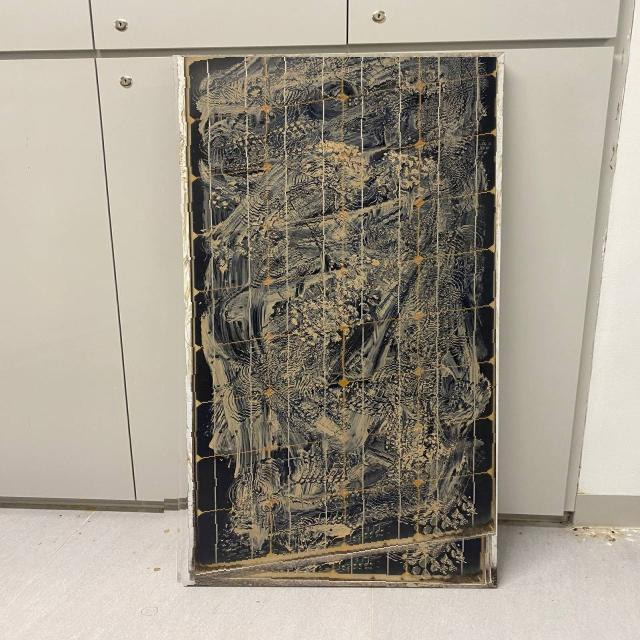Anomaly Solar Panel: (178, 53, 500, 587)
Surface Contaminant: (185, 54, 499, 583)
